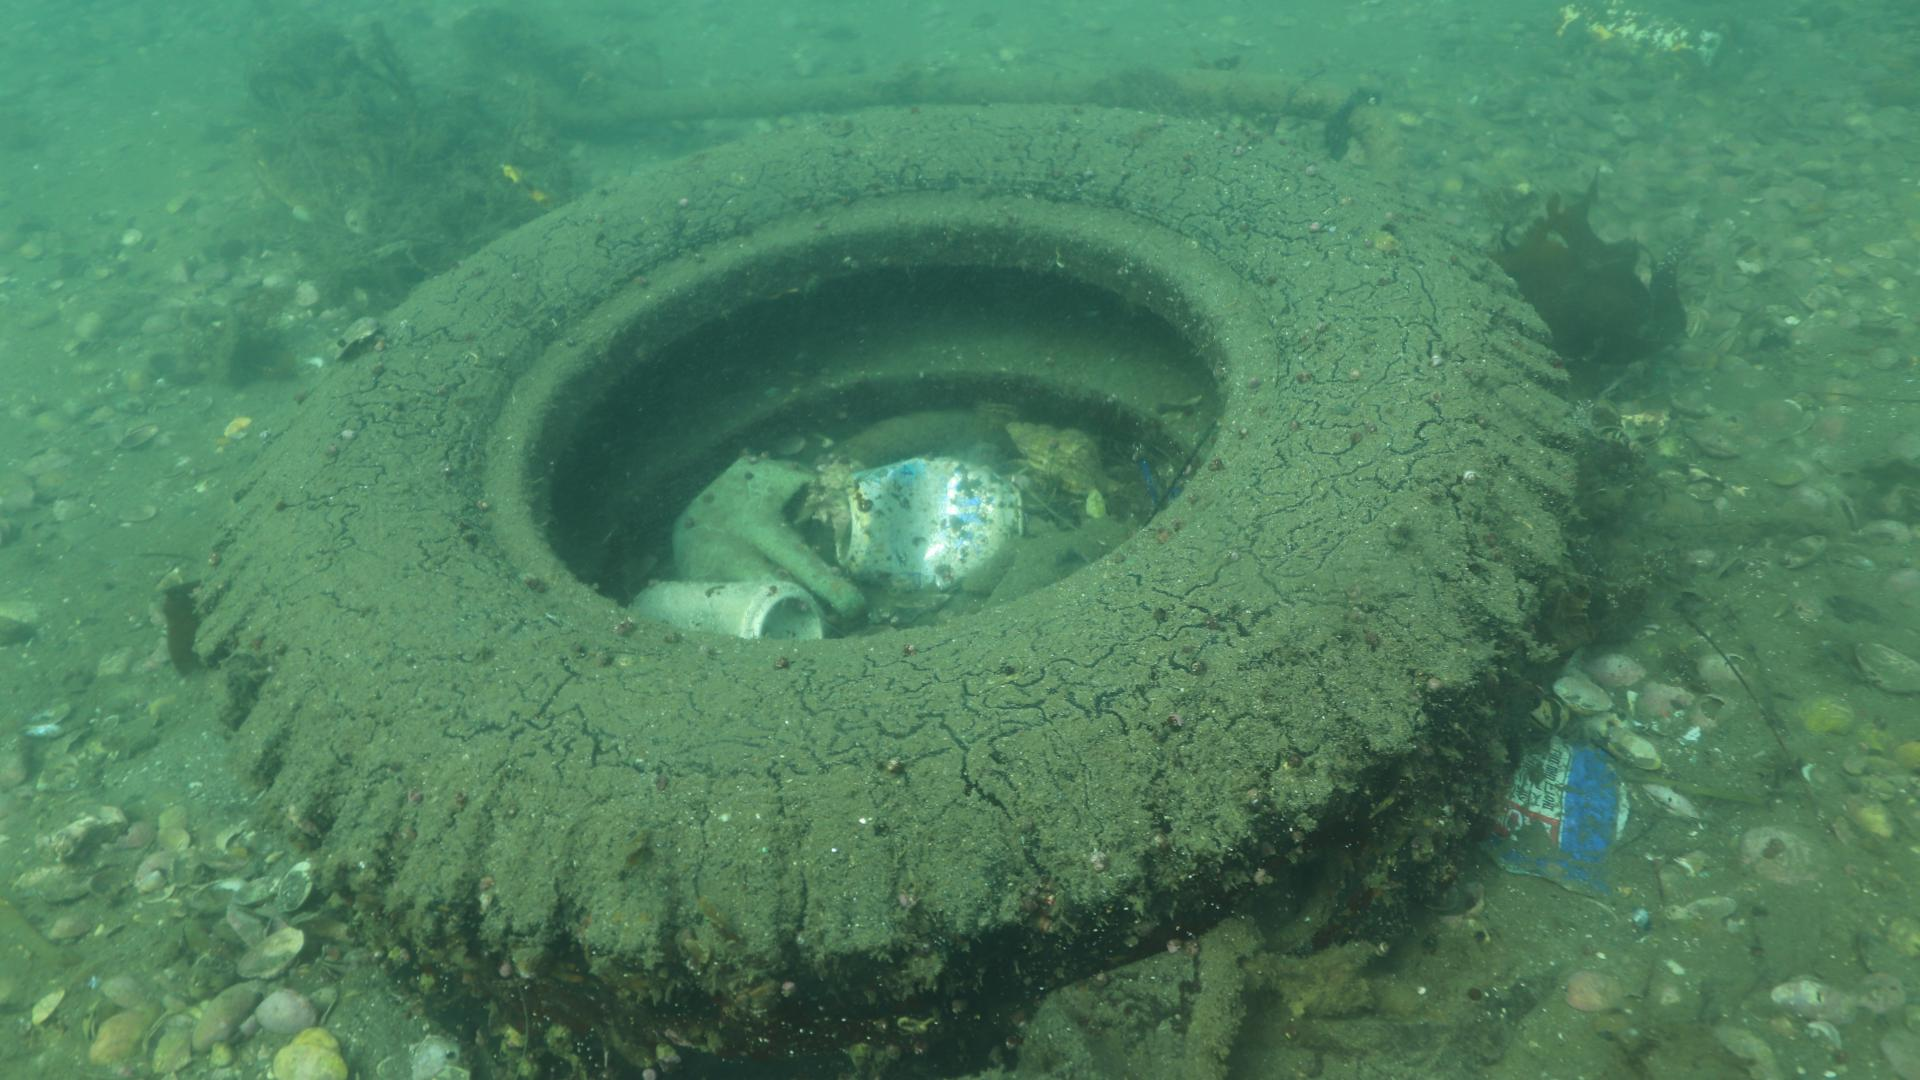tire: (196, 103, 1584, 1080)
